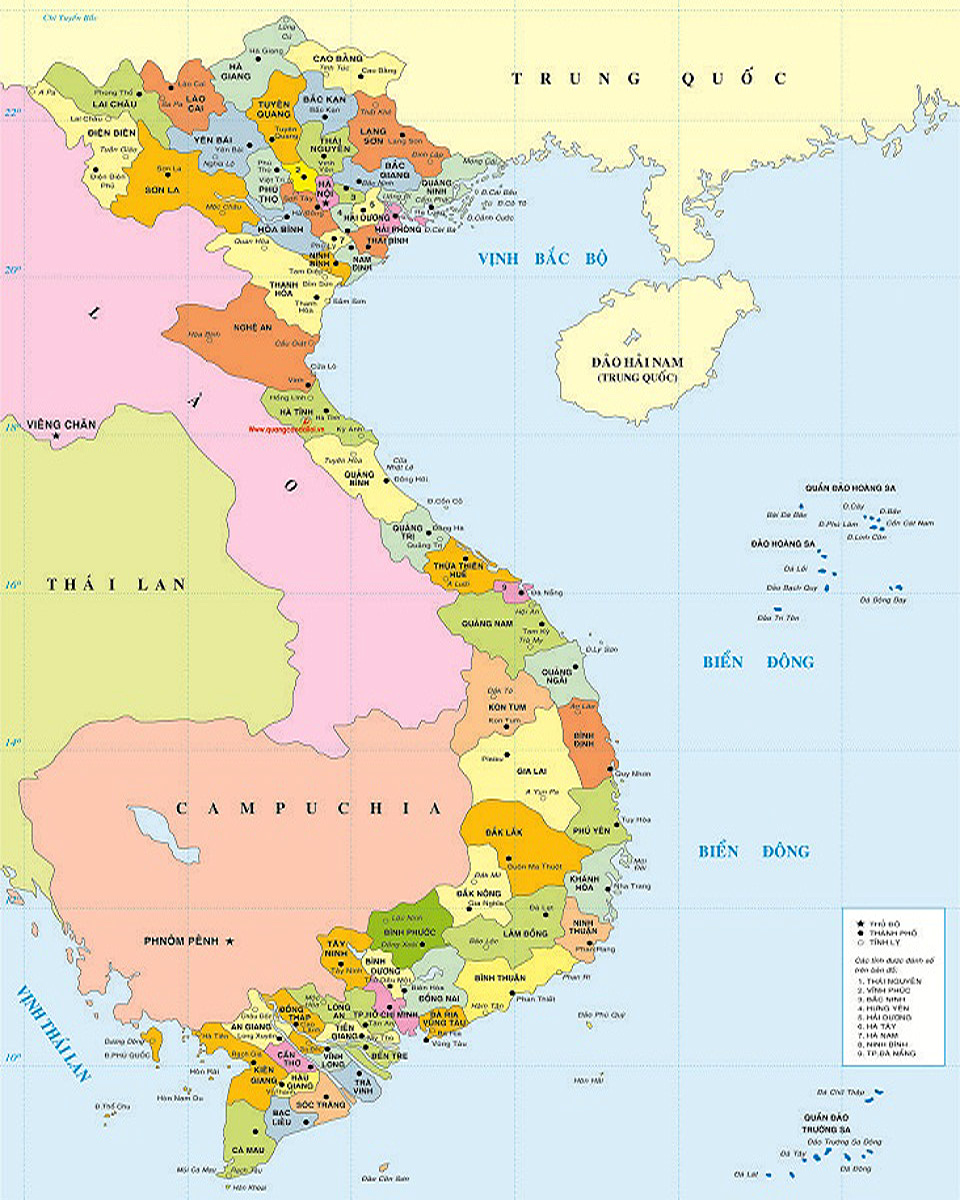Island: (746, 471, 942, 631), (722, 1082, 893, 1185)
